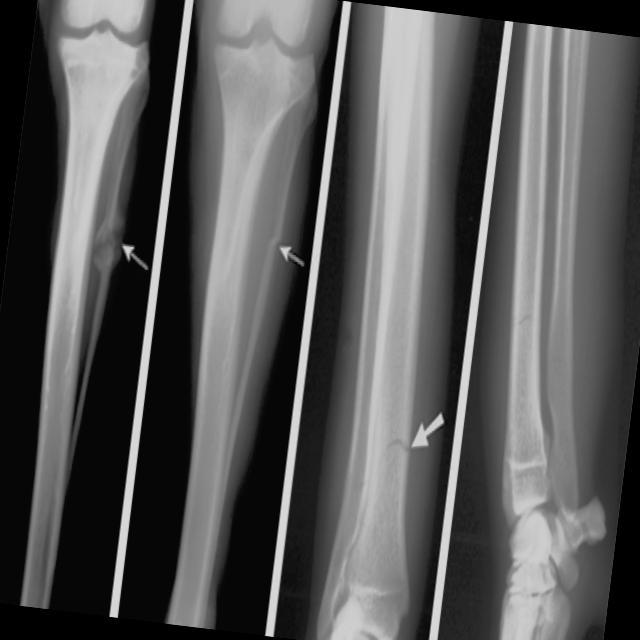HairLine Fracture: (95, 211, 123, 271), (386, 420, 413, 465), (263, 225, 286, 262)
